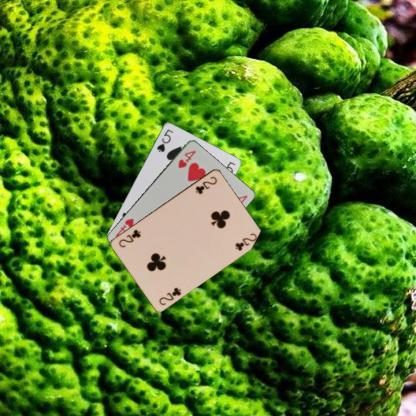2c: (193, 173, 218, 196), (156, 284, 182, 306)
4h: (176, 147, 197, 170)
5s: (154, 126, 174, 153)
